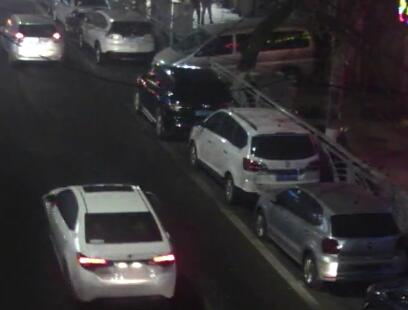car: (37, 182, 178, 300), (252, 178, 403, 283), (148, 15, 323, 96), (186, 106, 323, 200), (129, 58, 237, 136), (74, 6, 157, 61), (0, 10, 68, 64)
